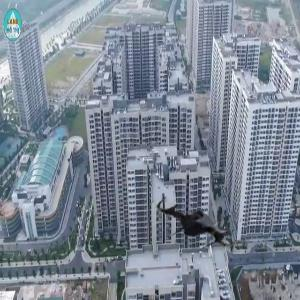drone: (154, 183, 240, 269)
